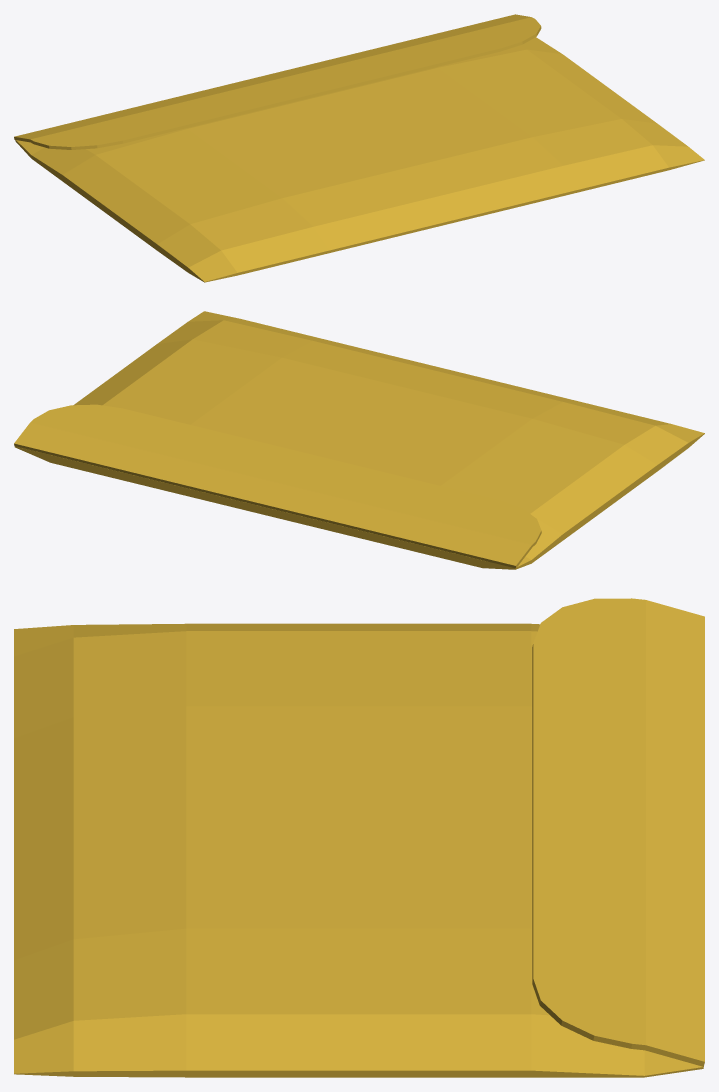
File: simple_envelope.fbx
3 views of the same model, one above another, from view 1: azimuth 30°, elevation 25°; view 2: azimuth 150°, elevation 25°; view 3: azimuth 270°, elevation 25° (orthographic). The views are drawn at different scales.
Visible parts, largest first — view 1: Cube.001; view 2: Cube.001; view 3: Cube.001.
Part boxes in pixels (box(x1,y1,x2,y2)): Cube.001: box(14, 14, 704, 282); Cube.001: box(14, 311, 704, 569); Cube.001: box(14, 598, 704, 1077).
Size of the model in its own units: 262 by 23.06 by 172.
